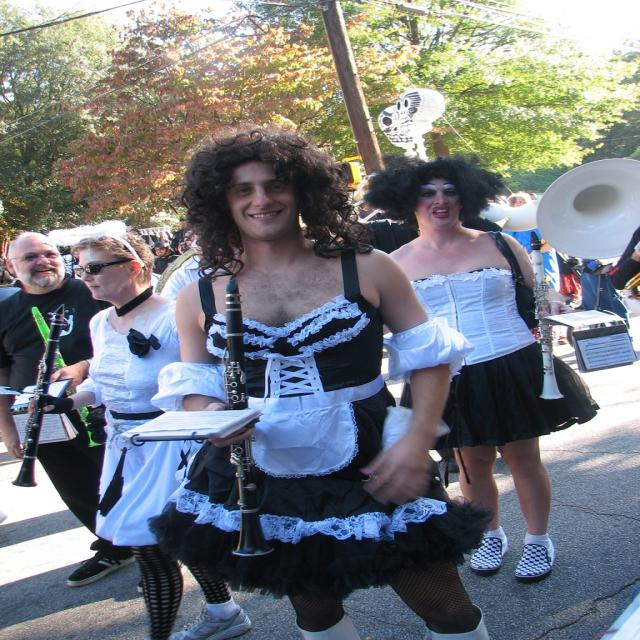clarinet: (210, 271, 288, 562), (8, 297, 72, 493), (522, 229, 569, 406)
